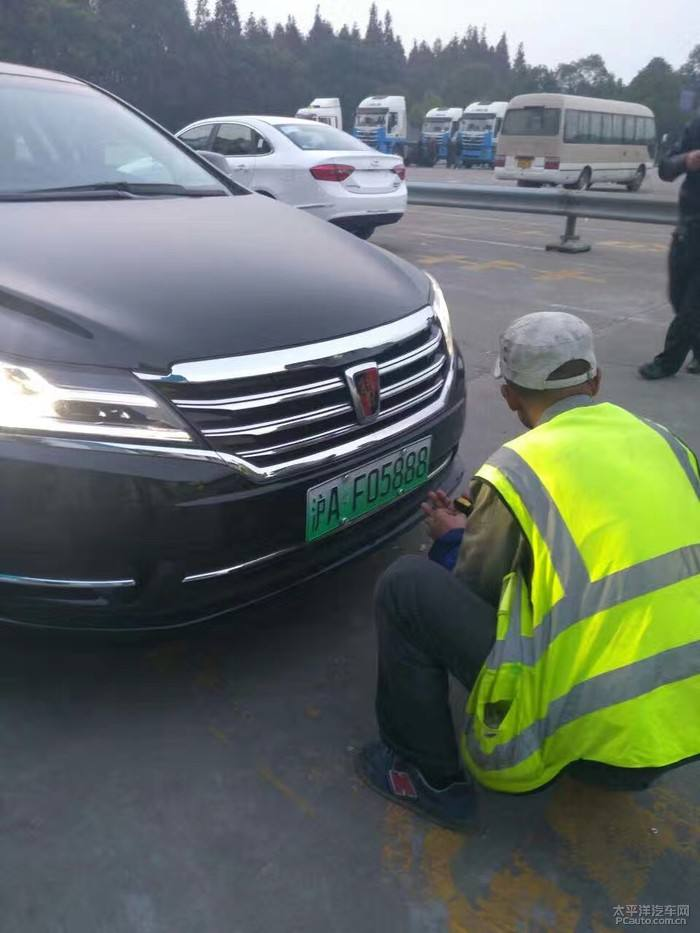plate: (286, 425, 455, 558)
